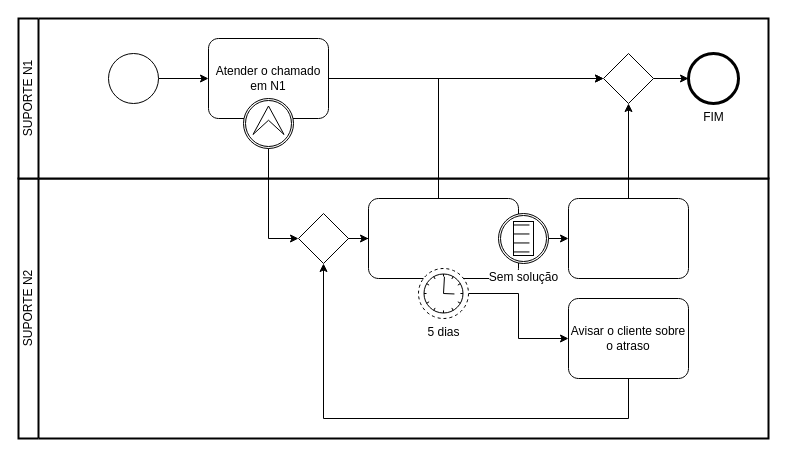
Image size: 786x456. Some labels were removed from this diagram. The shapes that lost their labels are listed below. From the top down, each one's centre as x and y in pixels, then its label:
At point (133, 78): "Chamado recebido".
At point (443, 238): "Resolver incidente em N2".
At point (628, 238): "Avisar o cliente sobre a não solução".
